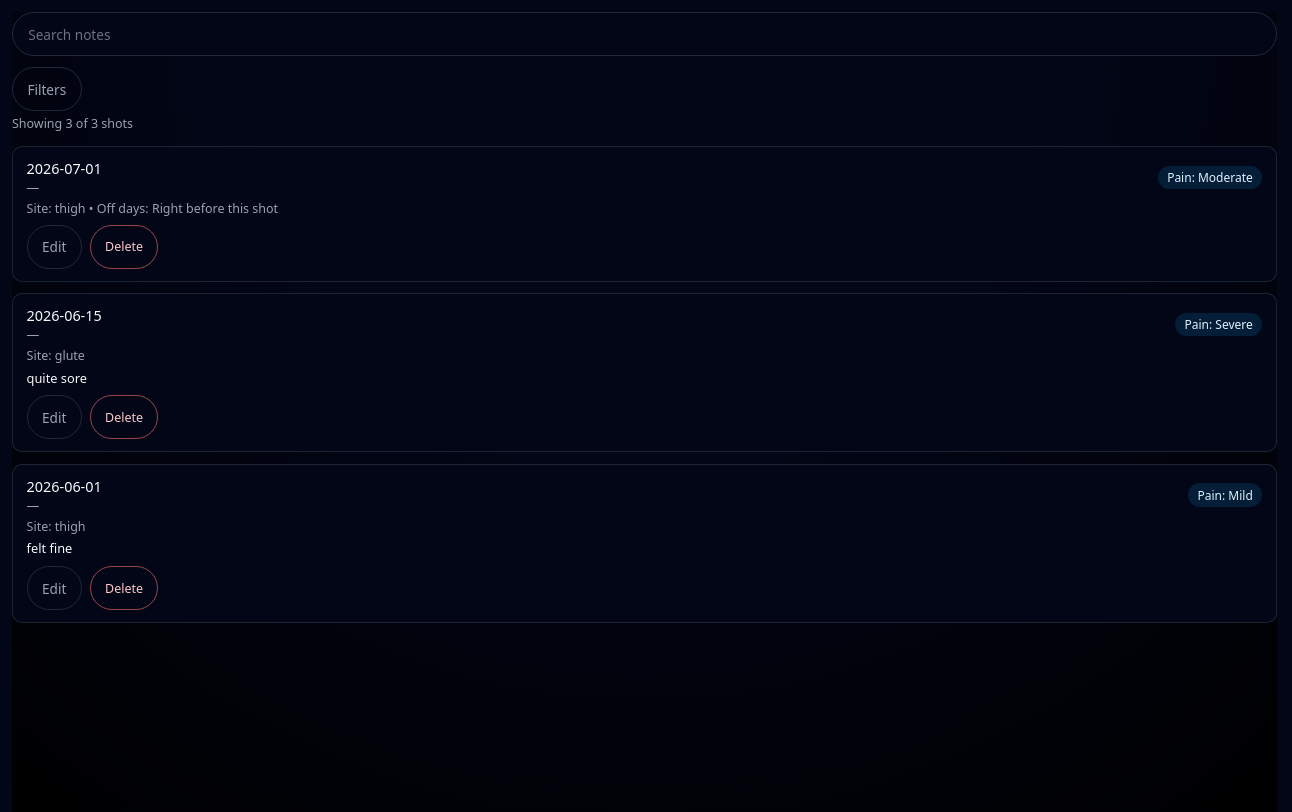
it: HistoryView › filters by an inclusive date range from the picker
Step 1. Click the button "Filters" → coordinates (47, 89), box top-left (12, 67), bottom-right (82, 111)
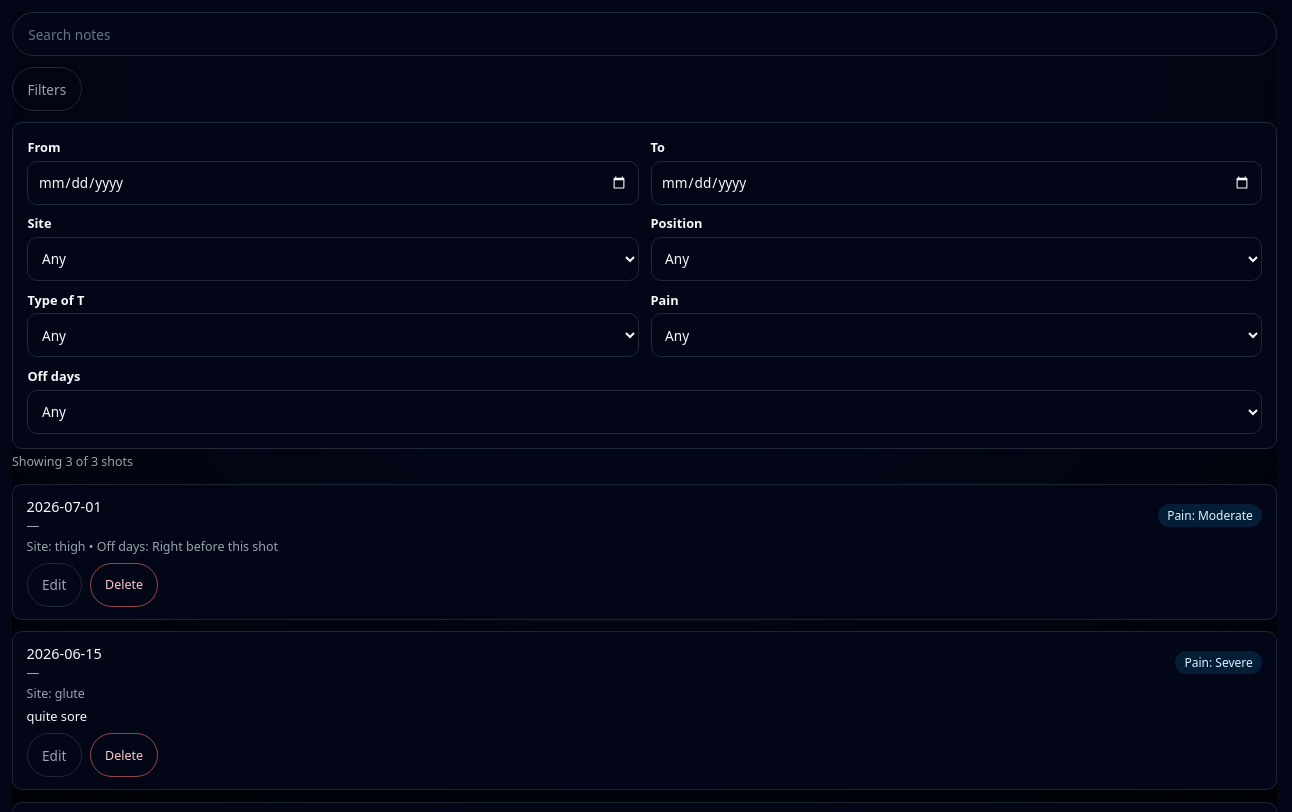
Step 2. Type "2026-06-15" into the date field labelled "From" → coordinates (333, 183), box top-left (27, 161), bottom-right (638, 205)
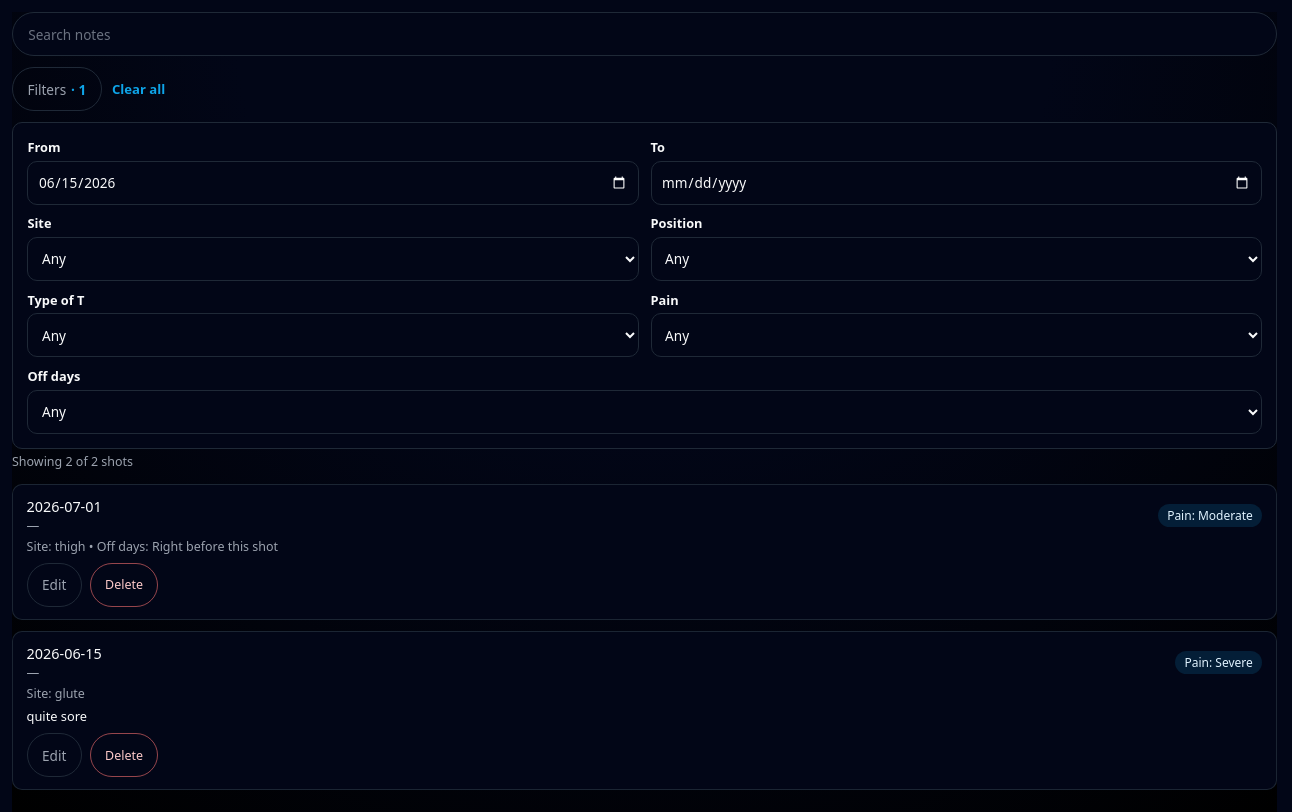
Now the text "Showing 2 of 2 shots" is shown, box top-left (12, 453), bottom-right (133, 470)
Step 3. Type "2026-06-15" into the date field labelled "To" → coordinates (956, 183), box top-left (650, 161), bottom-right (1262, 205)
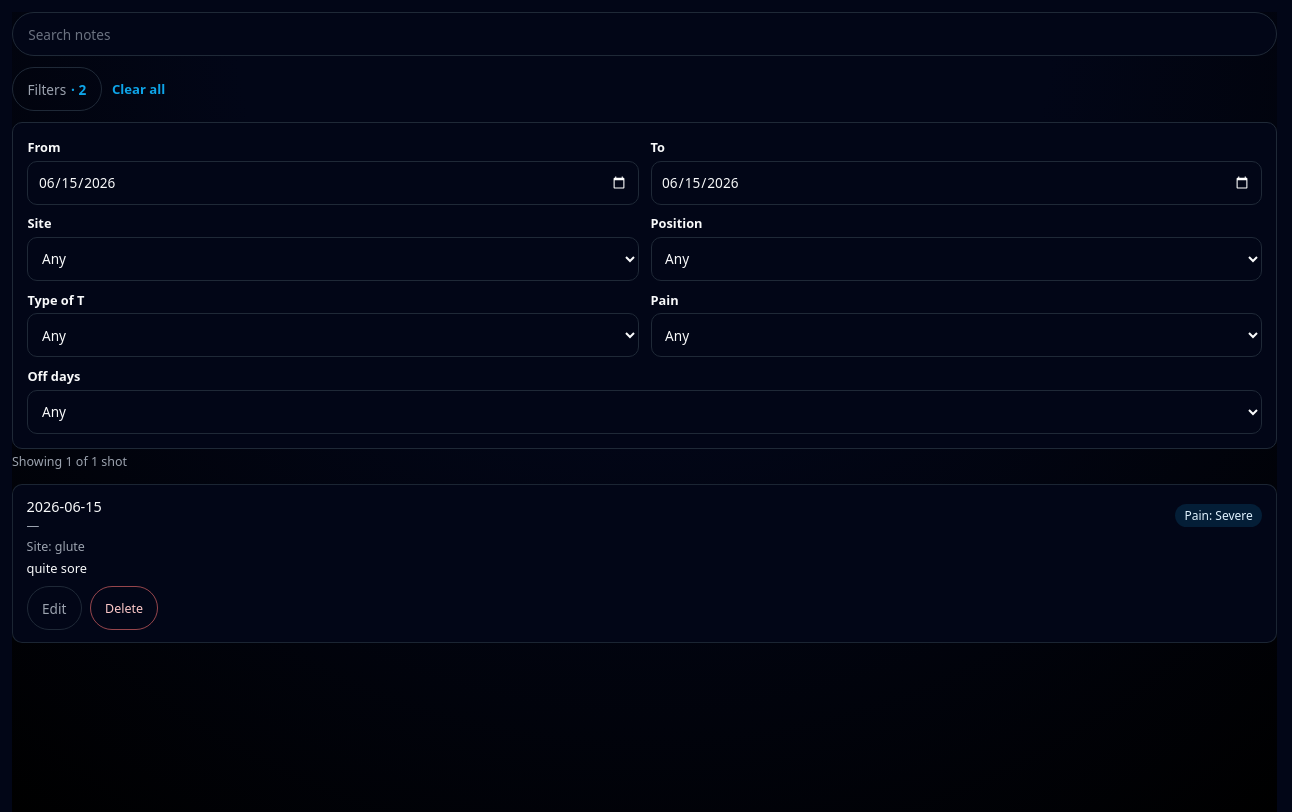
Expected: the text "quite sore" is shown, top-left (27, 559), bottom-right (87, 577)
Now the text "Showing 1 of 1 shot" is shown, box top-left (12, 453), bottom-right (127, 470)
